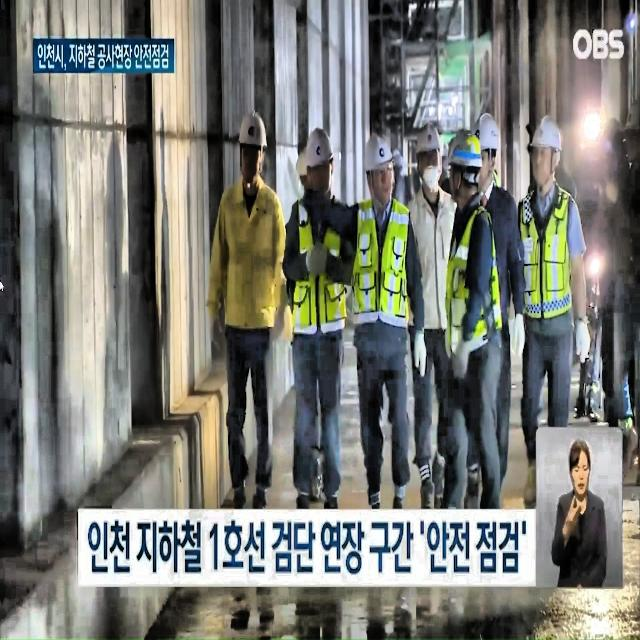safety_helmet: (524, 112, 578, 184), (447, 128, 488, 196), (238, 95, 278, 159), (356, 123, 400, 178), (292, 125, 333, 176), (469, 116, 506, 169), (412, 117, 444, 159)
safety_jacket: (289, 196, 360, 372), (430, 200, 502, 362), (516, 193, 583, 355), (349, 198, 419, 353)
